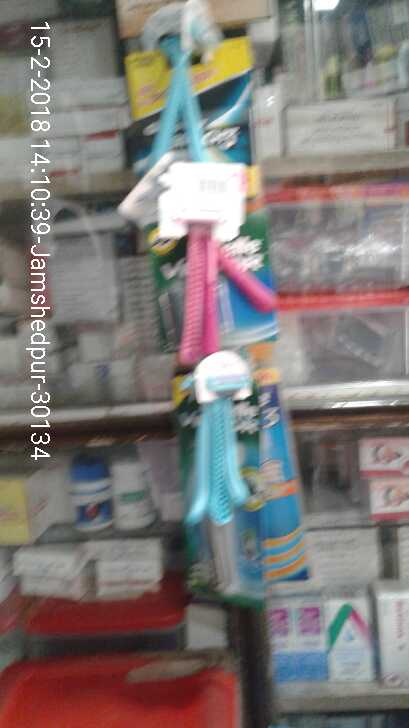reject: (141, 134, 217, 249)
